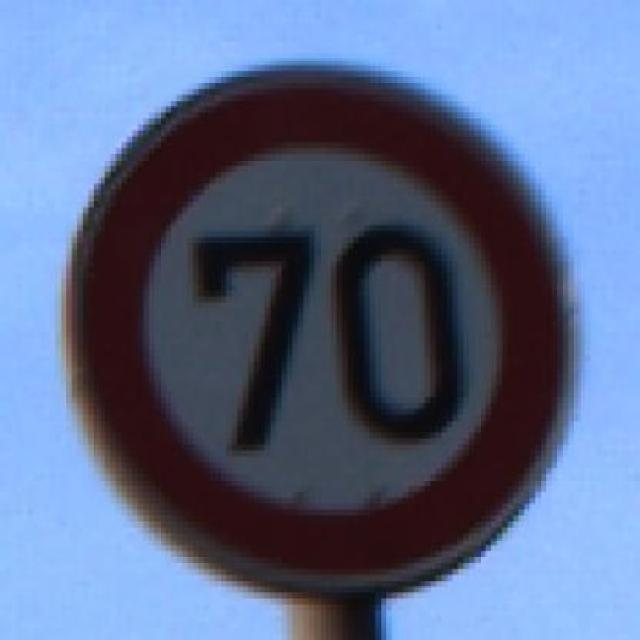forb_speed_over_70: (65, 70, 578, 587)
